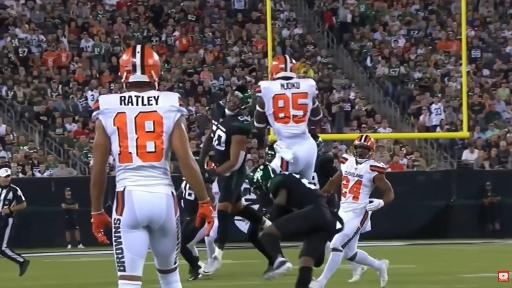Helmet: (120, 45, 161, 84), (249, 164, 277, 204), (226, 85, 252, 113), (270, 56, 296, 79), (195, 157, 215, 184), (353, 135, 375, 159), (311, 134, 323, 153), (265, 143, 275, 163)
Jersey: (93, 91, 186, 193), (258, 79, 317, 141), (340, 154, 386, 211), (211, 104, 252, 166), (269, 173, 323, 210), (312, 154, 337, 189), (181, 179, 198, 217), (181, 179, 198, 216), (212, 180, 220, 217)
Player: (91, 45, 213, 287), (310, 135, 393, 287), (200, 86, 267, 274), (250, 165, 342, 287), (255, 56, 322, 180), (178, 180, 217, 280), (312, 135, 338, 190), (311, 135, 337, 189), (247, 224, 273, 274)
